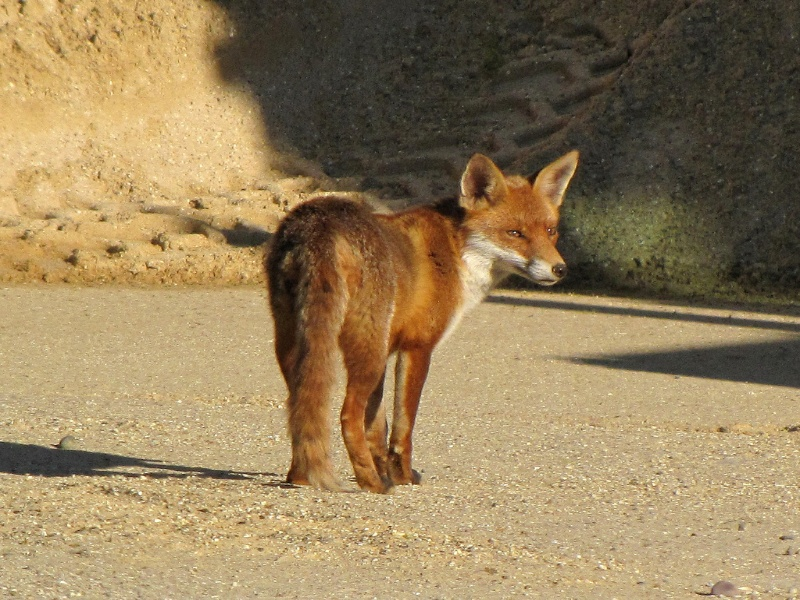fox: (263, 146, 585, 502)
